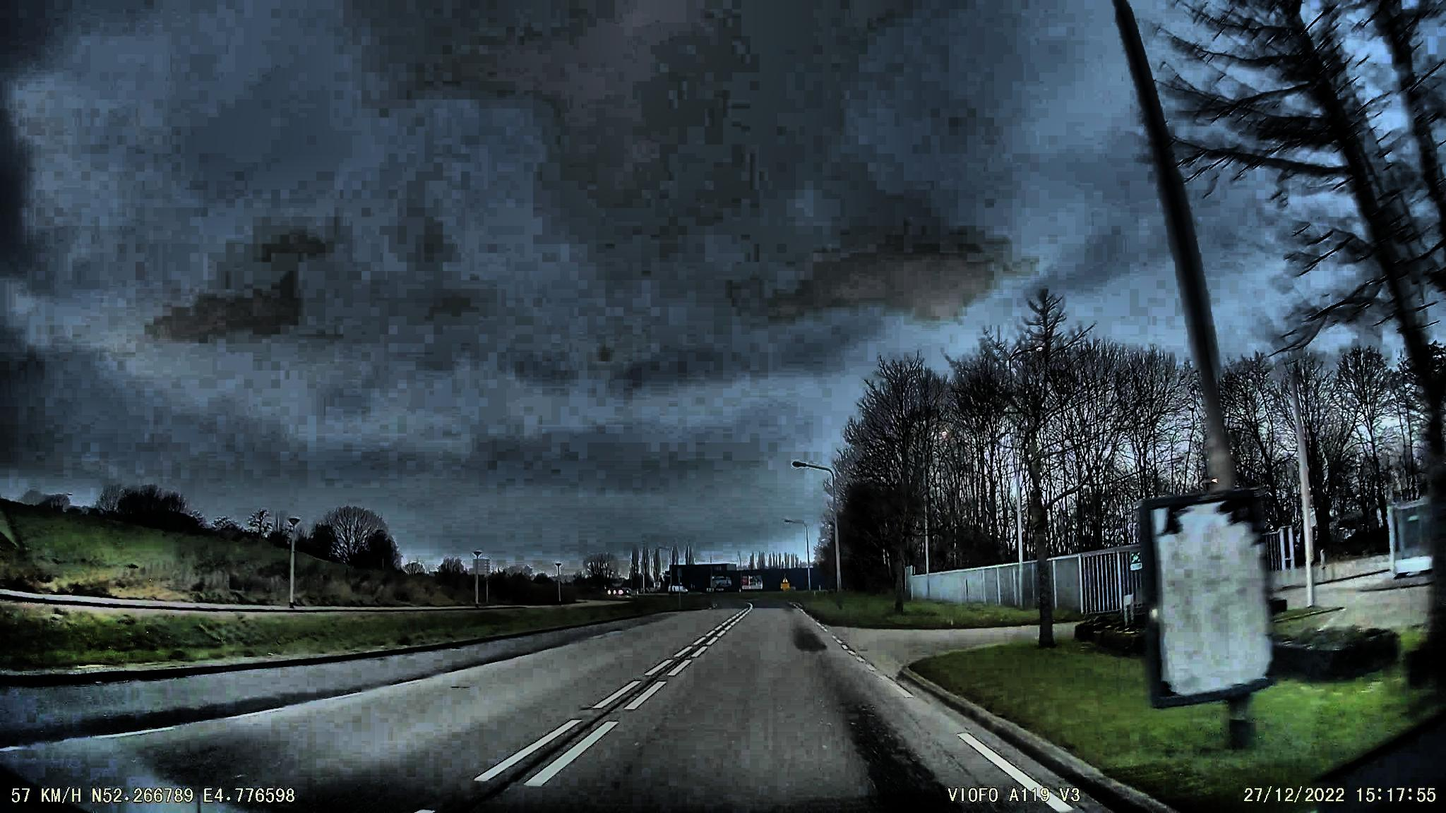Roads: (0, 606, 1183, 813)
